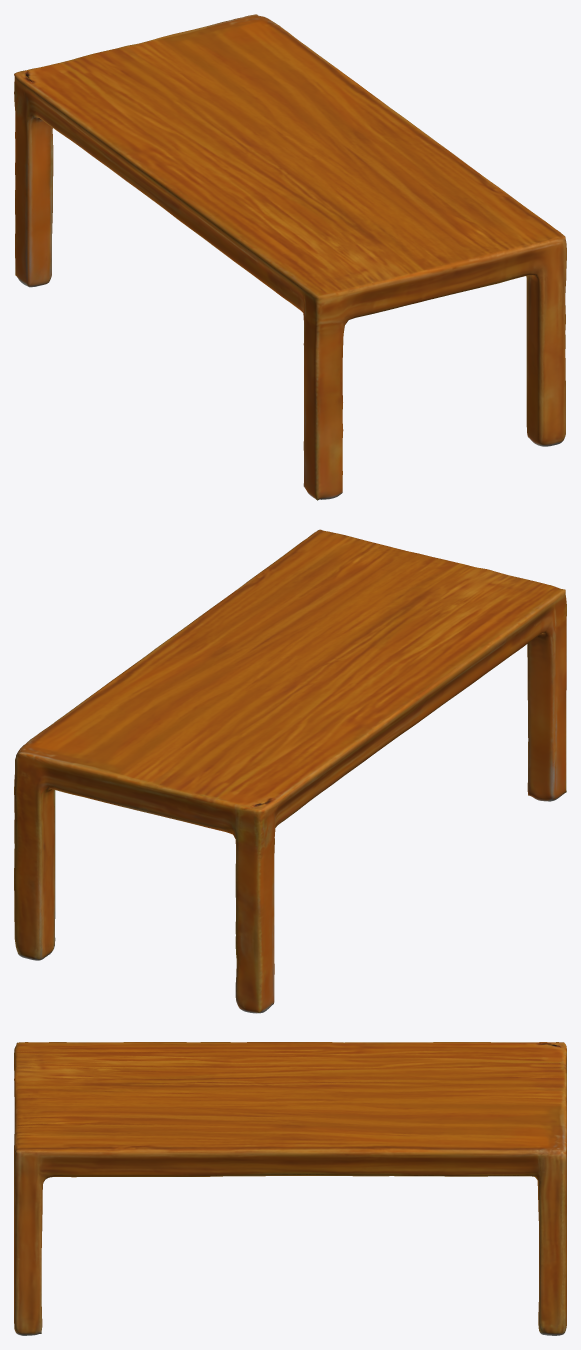
The model's file is table.glb.
The picture shows the model from 3 angles, top to bottom: view 1: azimuth 30°, elevation 25°; view 2: azimuth 150°, elevation 25°; view 3: azimuth 270°, elevation 25°; orthographic projection. The views are drawn at different scales.
Parts seen in each view (by area): view 1: Mesh; view 2: Mesh; view 3: Mesh.
Part boxes in pixels (left/top/right/bottom): Mesh: left=14, top=14, right=566, bottom=500; Mesh: left=14, top=529, right=566, bottom=1013; Mesh: left=14, top=1042, right=566, bottom=1335.
Bounding box in the file's own units: 0.4074 × 0.3226 × 0.8593.
1 material, 1 textured.
